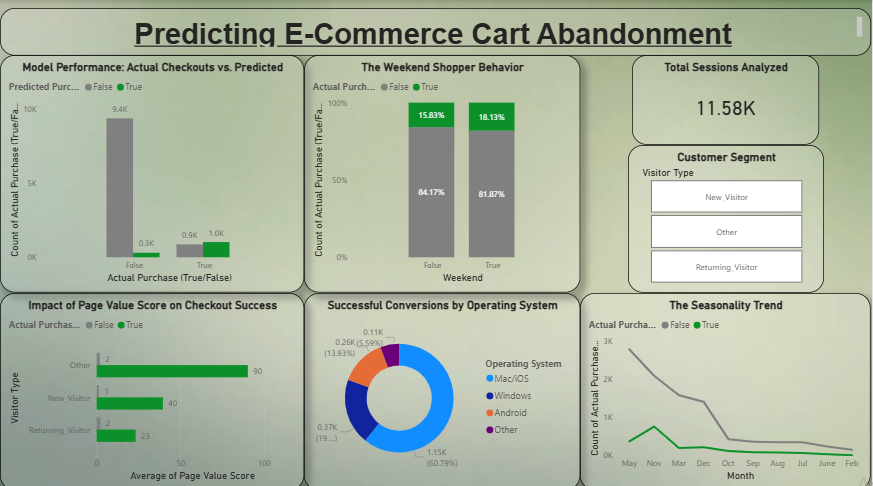

The dashboard page shown, as its layout file describes it:
{"tool":"powerbi","page":{"name":"Page 1","canvas":[1280,720],"ordinal":0},"visuals":[{"type":"textbox","box":[0,12,1280.2,70.2],"z":0},{"type":"card","title":"Total Sessions Analyzed","fields":{"Values":["CountNonNull(Ecommerce_Scored_Output.Actual Purchase (True/False))"]},"box":[928.7,80.8,274.8,132.2],"z":1000},{"type":"clusteredColumnChart","title":"Model Performance: Actual Checkouts vs. Predicted","fields":{"Category":["Ecommerce_Scored_Output.Actual Purchase (True/False)"],"Y":["CountNonNull(Ecommerce_Scored_Output.Actual Purchase (True/False))"],"Series":["Ecommerce_Scored_Output.Predicted Purchase (C&R Tree)"]},"box":[0,81.4,447.1,348.6],"z":2000},{"type":"donutChart","title":"Successful Conversions by Operating System","fields":{"Category":["Ecommerce_Scored_Output.Operating System"],"Y":["CountNonNull(Ecommerce_Scored_Output.Actual Purchase (True/False))"]},"box":[447.1,430,405.7,290],"z":3000},{"type":"clusteredBarChart","title":"Impact of Page Value Score on Checkout Success","fields":{"Category":["Ecommerce_Scored_Output.Visitor Type"],"Y":["Avg(Ecommerce_Scored_Output.Page Value Score)"],"Series":["Ecommerce_Scored_Output.Actual Purchase (True/False)"]},"box":[0,430,447.1,290],"z":4000},{"type":"lineChart","title":"The Seasonality Trend","fields":{"Category":["Ecommerce_Scored_Output.Month"],"Y":["CountNonNull(Ecommerce_Scored_Output.Actual Purchase (True/False))"],"Series":["Ecommerce_Scored_Output.Actual Purchase (True/False)"]},"box":[852.9,430,427.1,290],"z":5000},{"type":"hundredPercentStackedColumnChart","title":"The Weekend Shopper Behavior","fields":{"Category":["Ecommerce_Scored_Output.Weekend"],"Y":["CountNonNull(Ecommerce_Scored_Output.Actual Purchase (True/False))"],"Series":["Ecommerce_Scored_Output.Actual Purchase (True/False)"]},"box":[447.1,81.4,405.7,348.6],"z":6000},{"type":"slicer","title":"Customer Segment","fields":{"Values":["Ecommerce_Scored_Output.Visitor Type"]},"box":[922.8,213.1,288,217.5],"z":7000}]}

Visuals, with their boxes in screenshot pixels (x1, y1, x2, y2), scaled from the page's 1280x720 canvas onto the 873x486 screenshot:
textbox: left=0, top=8, right=872, bottom=55
"Total Sessions Analyzed" card: left=633, top=55, right=821, bottom=144
"Model Performance: Actual Checkouts vs. Predicted" clusteredColumnChart: left=0, top=55, right=305, bottom=290
"Successful Conversions by Operating System" donutChart: left=305, top=290, right=582, bottom=485
"Impact of Page Value Score on Checkout Success" clusteredBarChart: left=0, top=290, right=305, bottom=485
"The Seasonality Trend" lineChart: left=582, top=290, right=872, bottom=485
"The Weekend Shopper Behavior" hundredPercentStackedColumnChart: left=305, top=55, right=582, bottom=290
"Customer Segment" slicer: left=629, top=144, right=826, bottom=291
